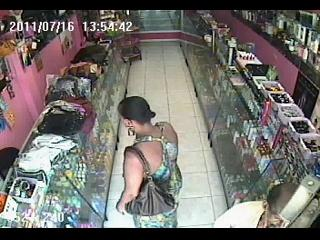Normal: (116, 96, 182, 227)
